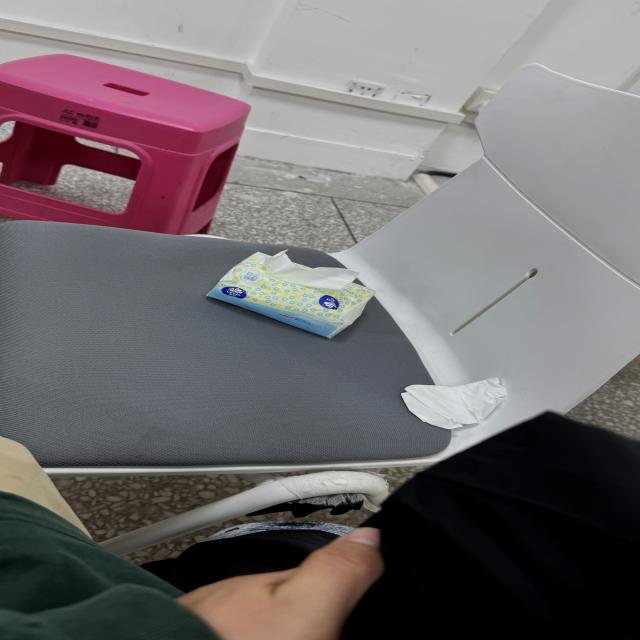tissue: (208, 252, 374, 338), (402, 378, 507, 429), (256, 250, 358, 290)
